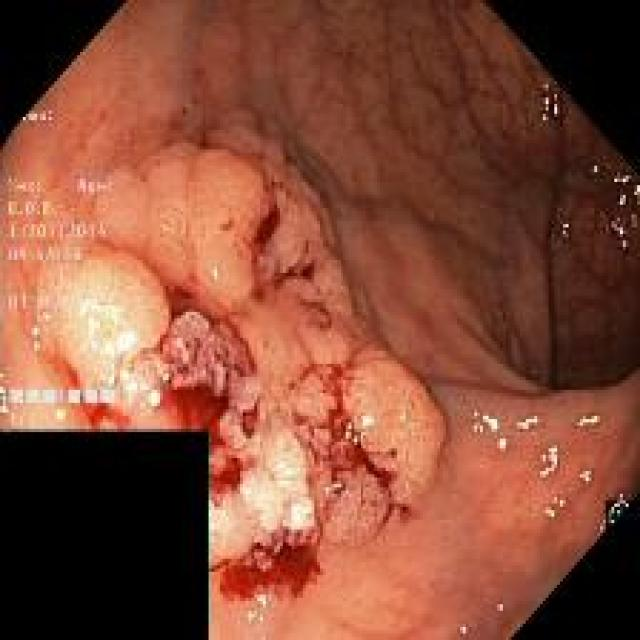Polyps: (35, 112, 445, 568)
